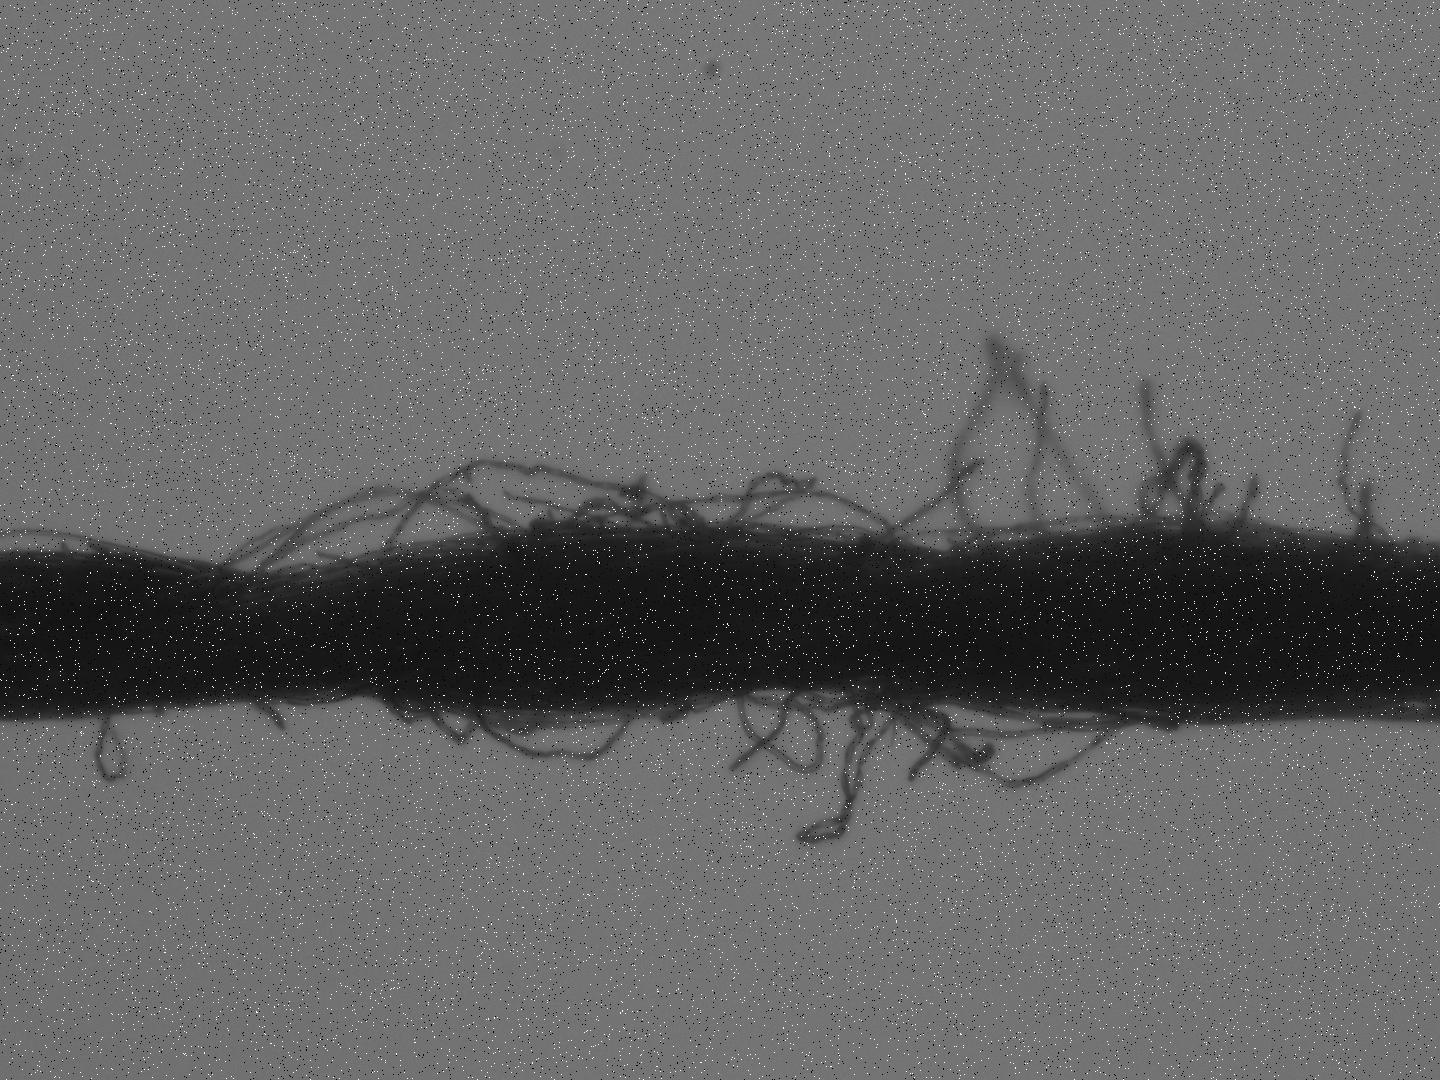loop_fiber: (387, 454, 711, 562), (273, 487, 522, 583), (264, 483, 507, 581), (898, 707, 1130, 790), (803, 701, 904, 844), (630, 493, 897, 543), (468, 702, 635, 761), (734, 695, 830, 775), (903, 704, 1099, 737), (564, 497, 664, 538), (999, 700, 1129, 731), (955, 529, 1067, 555), (796, 525, 890, 552), (748, 694, 871, 712), (434, 709, 482, 746), (798, 686, 865, 709), (386, 702, 425, 731)
protruding_fiber: (882, 458, 980, 546), (1339, 411, 1395, 547), (1028, 380, 1049, 541), (1237, 479, 1257, 534), (257, 707, 288, 729)
